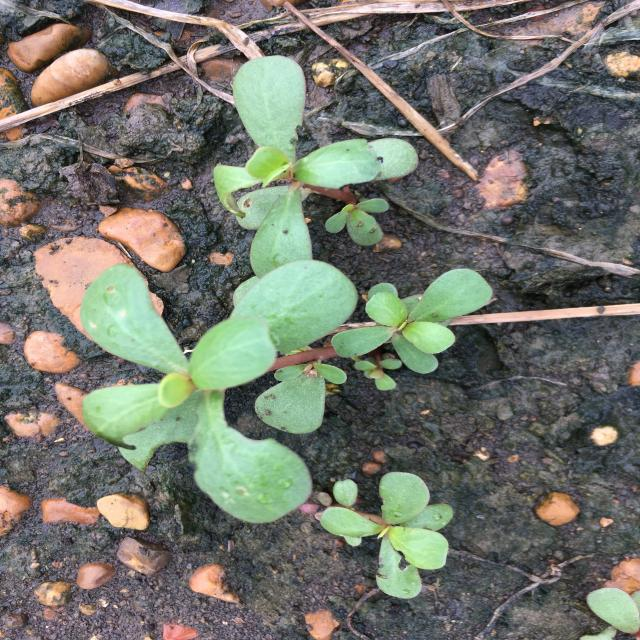Purslane: (80, 259, 493, 524), (213, 55, 419, 281), (298, 471, 455, 599)
